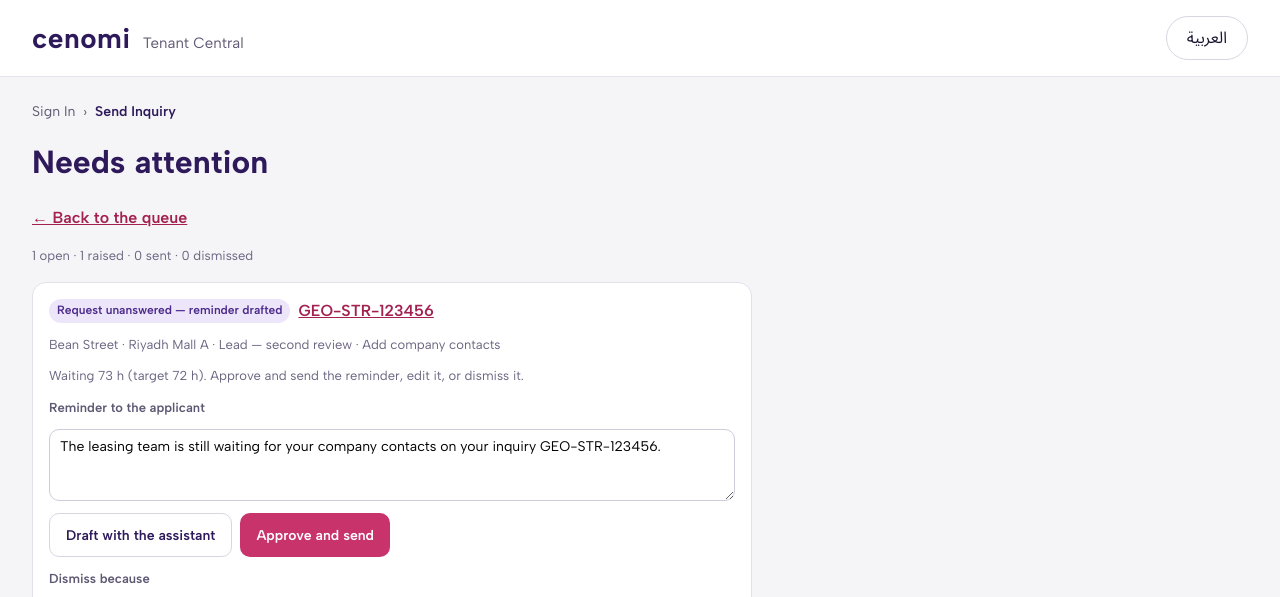
Test: AttentionPage › approves a reminder as drafted, without sending the unchanged text
Click the button "Approve and send".
click(315, 535)  # box 240,513 -> 390,557
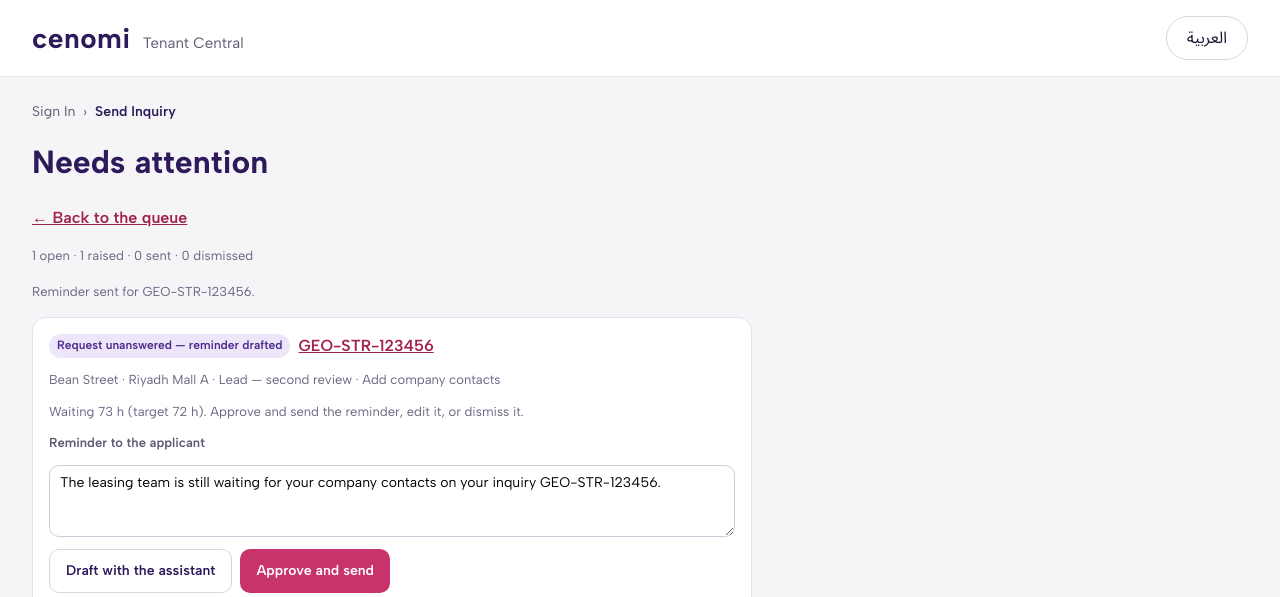
expect the message shows "Reminder sent for GEO-STR-123456": met, box 32,284 -> 255,298
